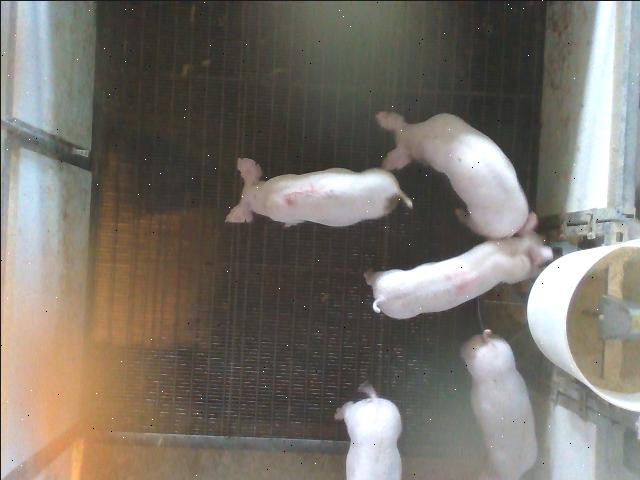pig-4: (365, 211, 552, 318)
pig-5: (225, 158, 411, 225)
